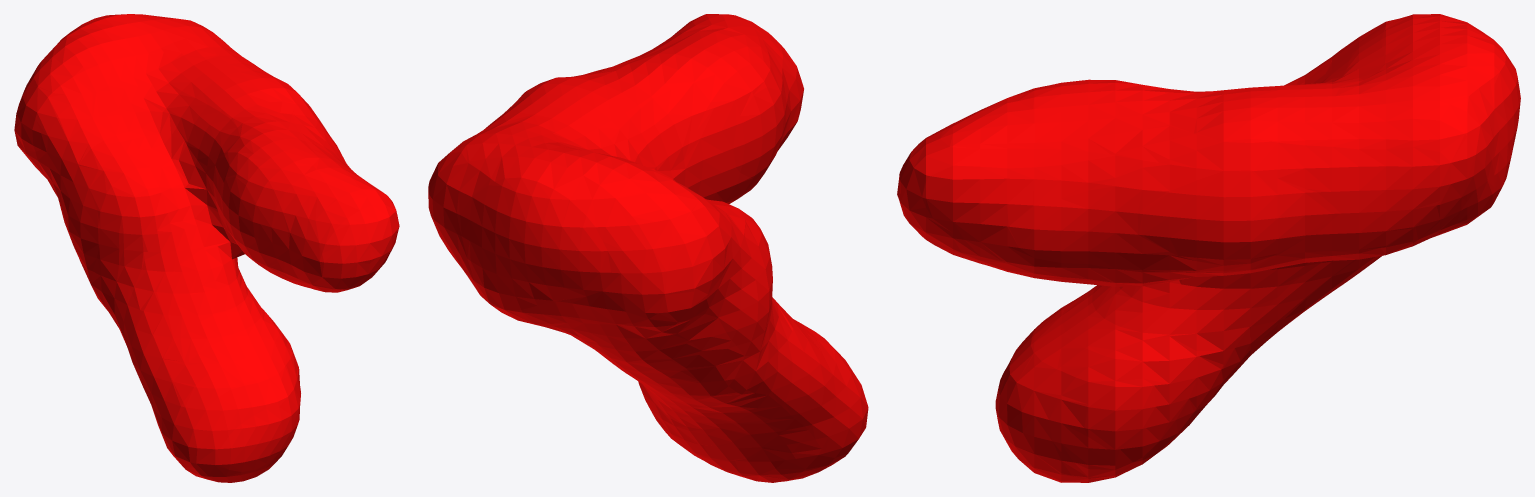
The model's file is gnsB_coarse.dae.
The picture shows the model from 3 angles, left to right: view 1: azimuth 30°, elevation 25°; view 2: azimuth 150°, elevation 25°; view 3: azimuth 270°, elevation 25°; orthographic projection. The views are drawn at different scales.
Parts seen in each view (by area): view 1: gnsB; view 2: gnsB; view 3: gnsB.
Part boxes in pixels (x1,y1,x2,y2): gnsB: (14, 14, 399, 482); gnsB: (428, 14, 868, 482); gnsB: (897, 14, 1520, 482).
Size of the model in its own units: 25.66 by 36.82 by 45.84.
